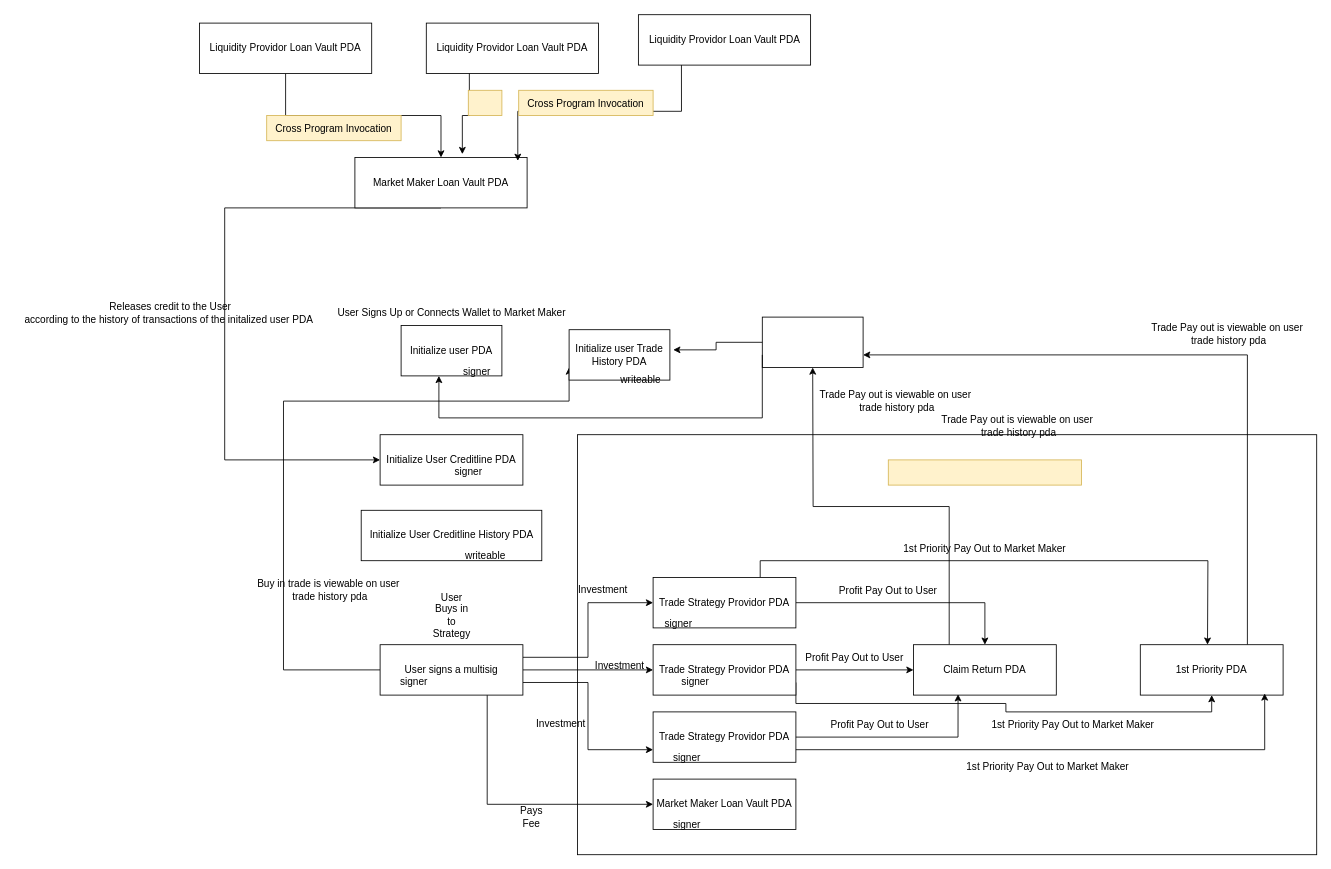
Image size: 1331x869. Some labels were removed from this diagram. The centre of each missing label's shape, as x and y in pixels:
CPI: the point at 484,102
Pay Out Instruction: the point at 812,342
SAME PROGRAM, SEPERATE PDA'S: the point at 984,472
